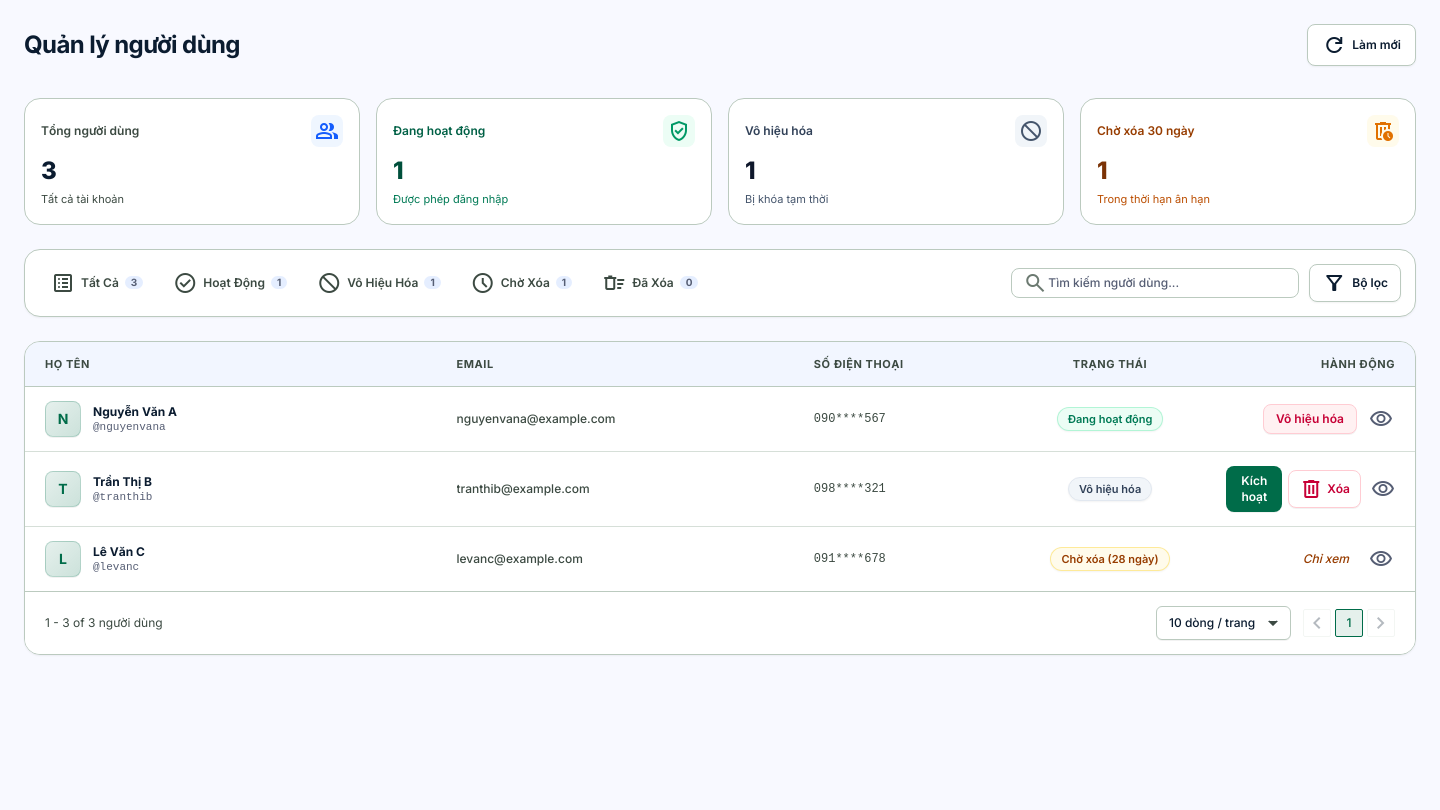
Test: Admin-web Users Suite — UserListPage › 3.7. [Tầng 2 - System Impact] Bộ lọc nhiều trạng thái: Lọc chính xác danh sách người dùng theo các trạng thái được check
Expected: the text "Nguyễn Văn A" is shown, 93,404 -> 177,419
Expected: the text "Trần Thị B" is shown, 93,474 -> 152,489
// Mở modal lọc
Click the button "Bộ lọc".
click(1355, 282)  # box 1309,264 -> 1401,302
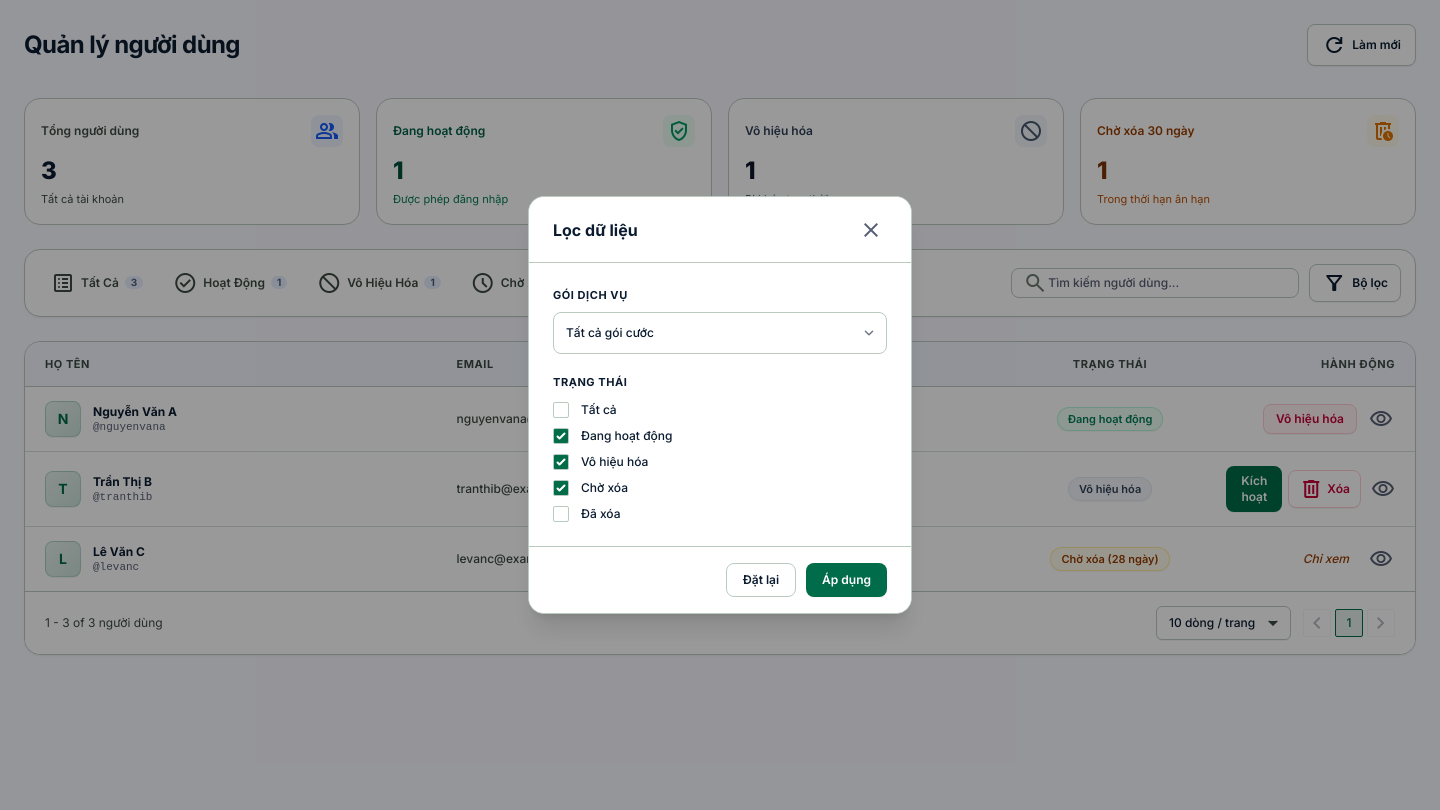
Click the checkbox with test id "filter-status-inactive".
click(561, 462)  # box 553,454 -> 569,470
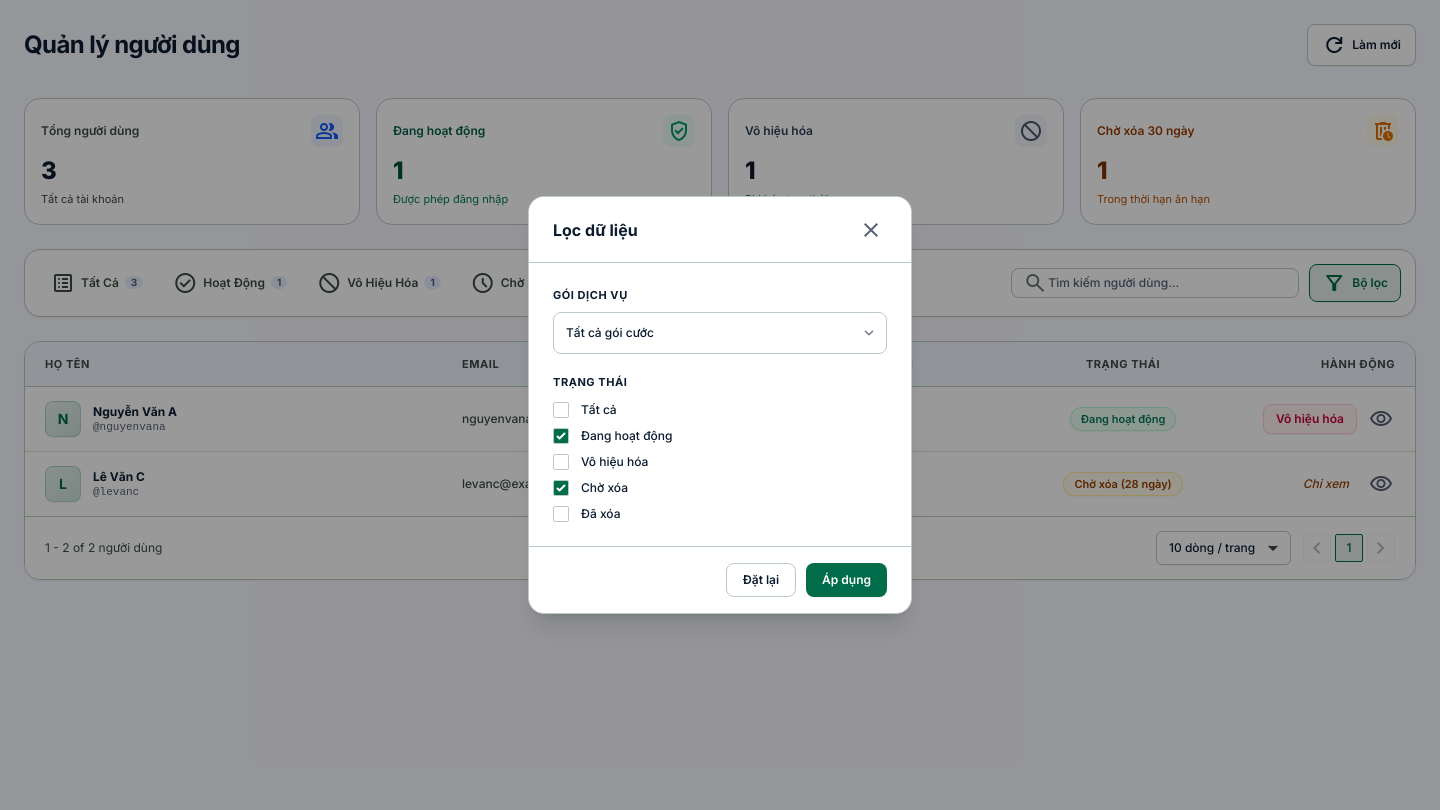
// Nhấp nút Áp dụng
Click the button "Áp dụng".
click(847, 580)  # box 806,563 -> 887,597
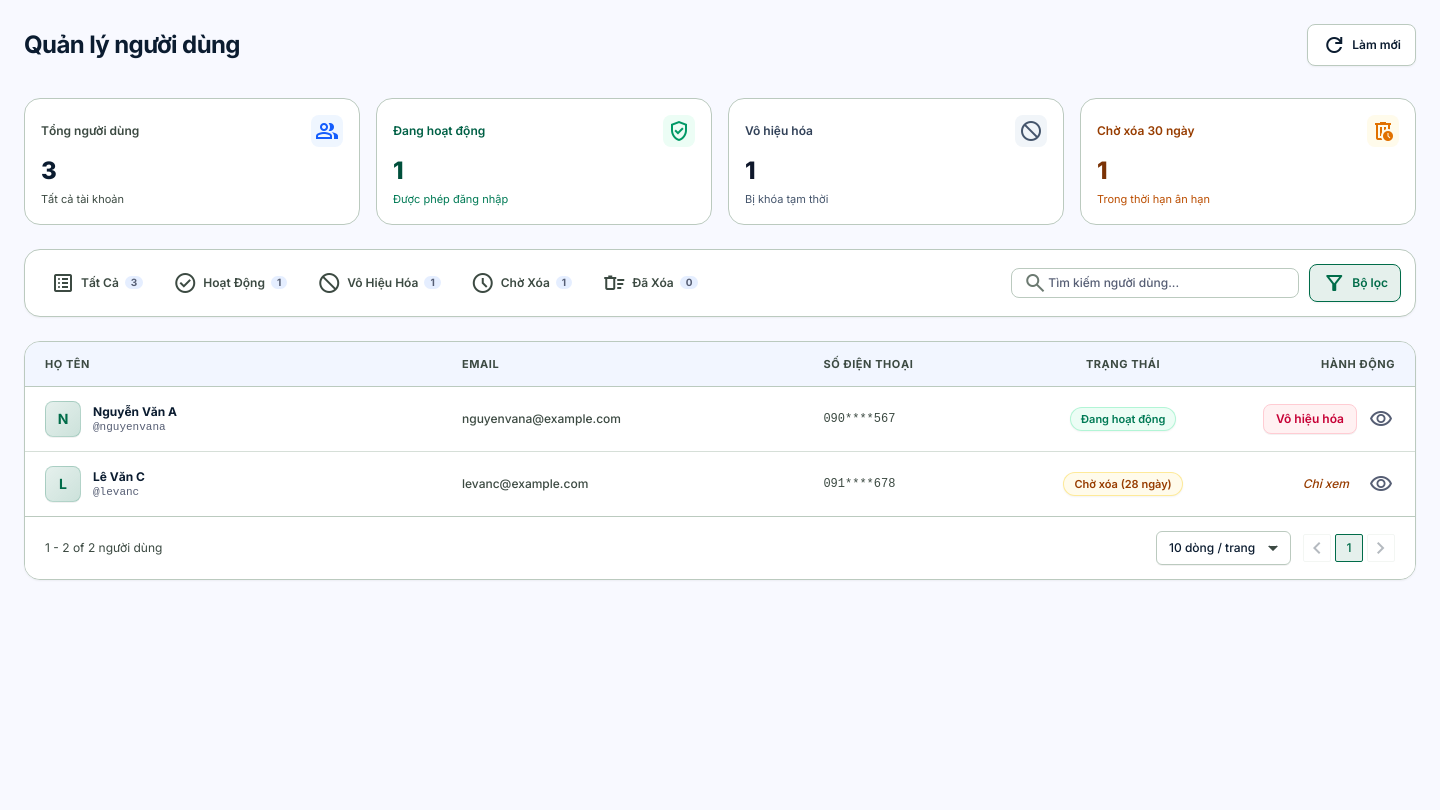
Expected: the text "Nguyễn Văn A" is shown, 93,404 -> 177,419
Now the heading "Lọc dữ liệu" is gone
// Mở lại modal và nhấn nút "Đặt lại"
Click the button "Bộ lọc".
click(1355, 282)  # box 1309,264 -> 1401,302
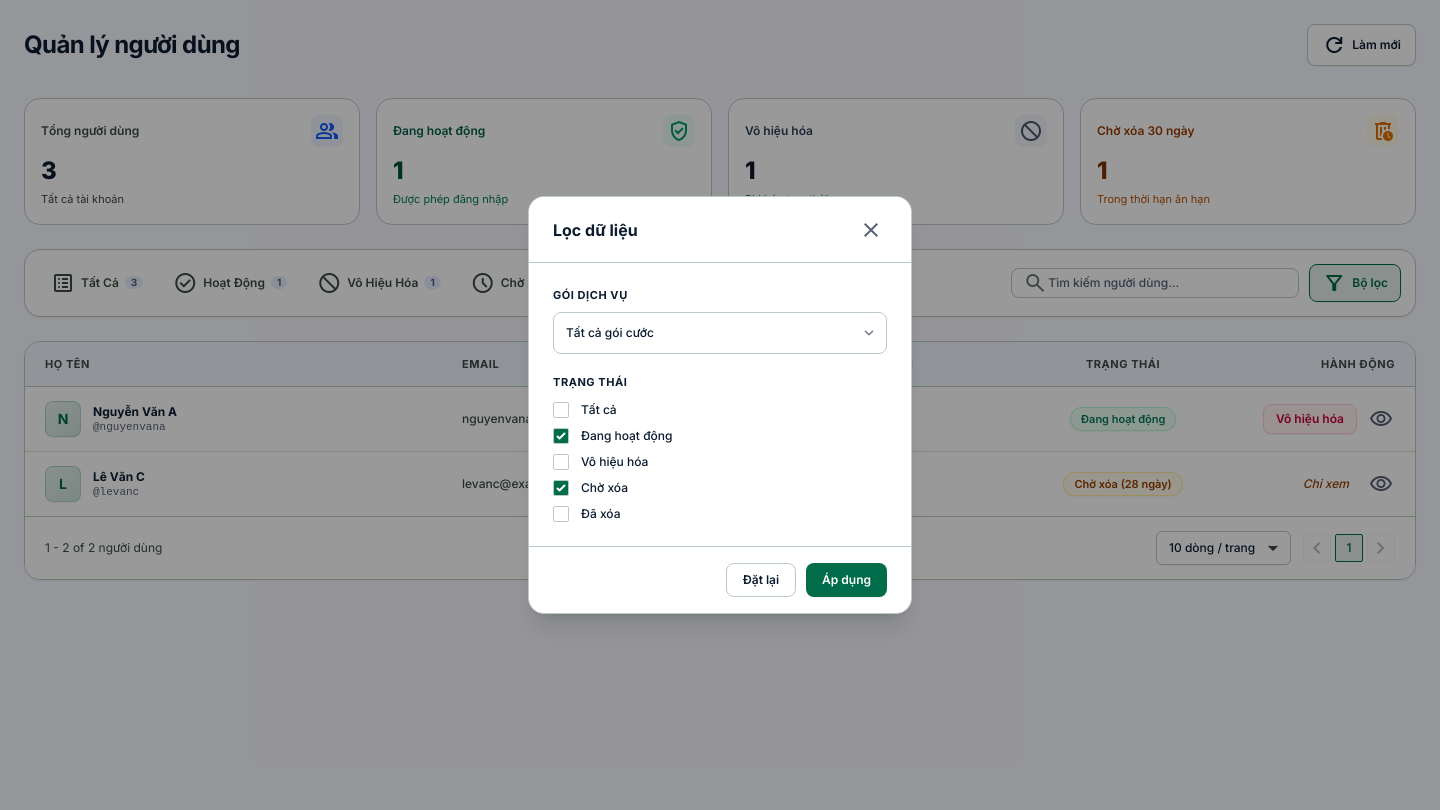
Click the button "Đặt lại".
click(761, 580)  # box 726,563 -> 796,597
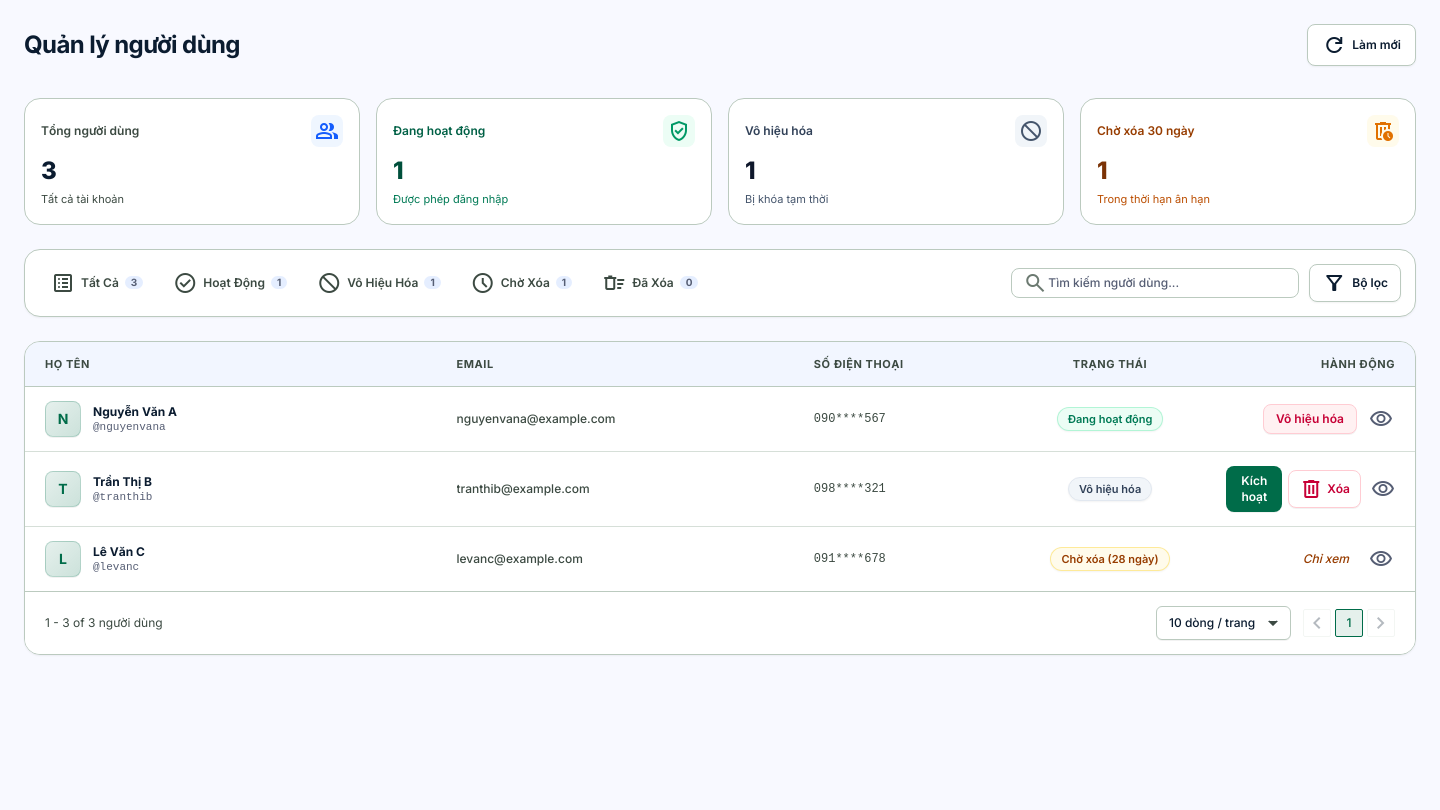
Expected: the text "Nguyễn Văn A" is shown, 93,404 -> 177,419
Now the text "Trần Thị B" is shown, box 93,474 -> 152,489
